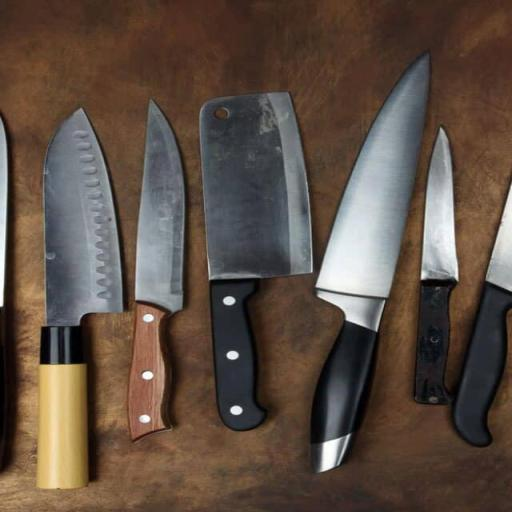knife: (27, 105, 130, 499)
